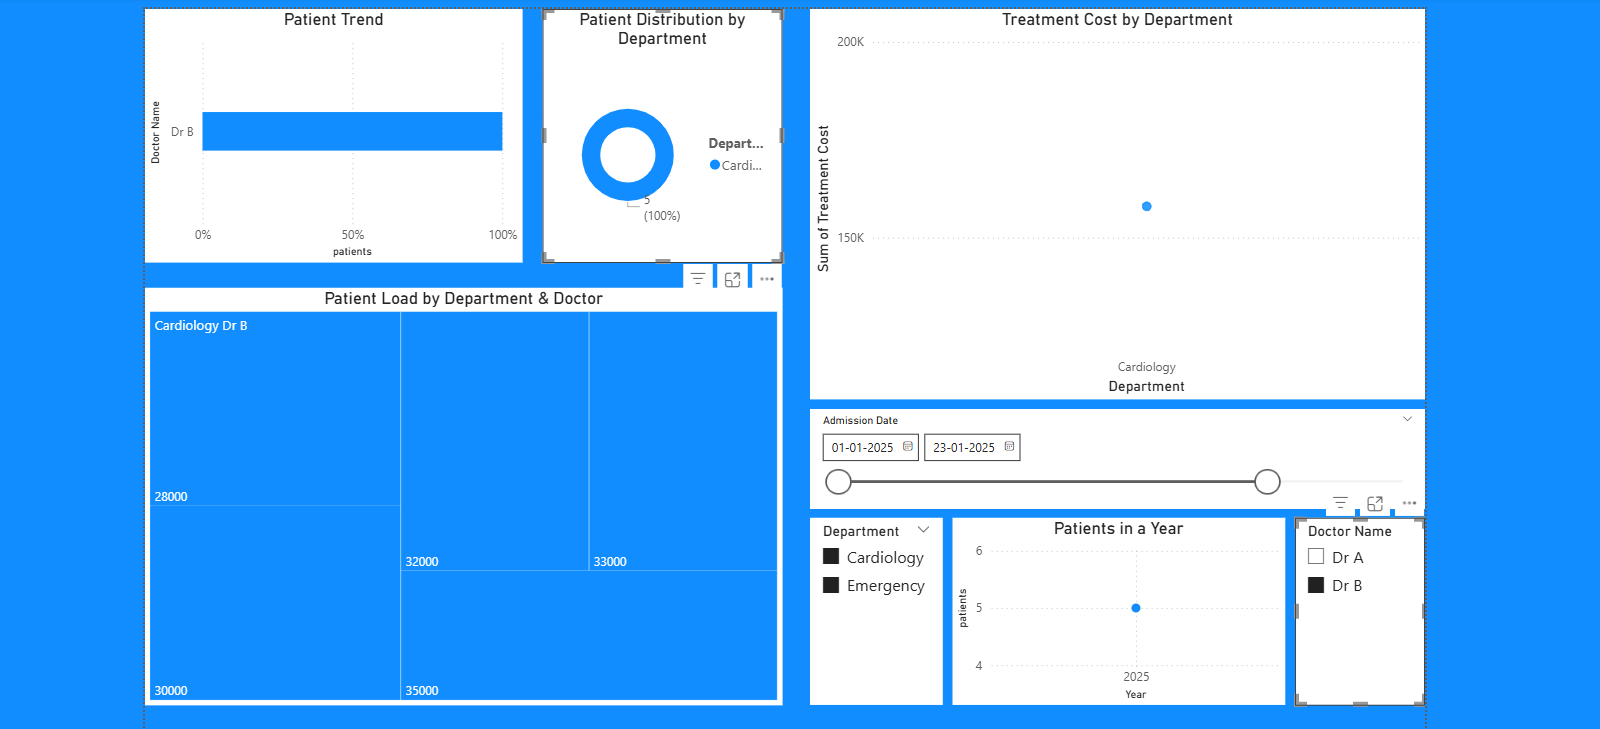

What the dashboard file says about the page in this screenshot:
{"tool":"powerbi","page":{"name":"Page 2","canvas":[1280,720],"ordinal":1},"visuals":[{"type":"hundredPercentStackedBarChart","title":"Patient Trend","fields":{"Category":["hospital_operations_data.Doctor Name"],"Y":["hospital_operations_data.patients"]},"box":[0,0,377.5,253.8],"z":0},{"type":"donutChart","title":"Patient Distribution by Department","fields":{"Category":["hospital_operations_data.Department"],"Y":["hospital_operations_data.patients"]},"box":[397.5,0,240,253.8],"z":1000},{"type":"scatterChart","title":"Treatment Cost by Department","fields":{"X":["hospital_operations_data.Department"],"Y":["hospital_operations_data.Treatment Cost"]},"box":[665,0,615,390],"z":2000},{"type":"slicer","fields":{"Values":["hospital_operations_data.Doctor Name"]},"box":[1150,508.8,130,187.5],"z":3000},{"type":"slicer","fields":{"Values":["hospital_operations_data.Admission Date"]},"box":[665,400,615,100],"z":4000},{"type":"treemap","title":"Patient Load by Department & Doctor","fields":{"Group":["hospital_operations_data.Department","hospital_operations_data.Doctor Name"],"Values":["hospital_operations_data.patients"],"Details":["hospital_operations_data.Treatment Cost"]},"box":[0,278.8,637.5,417.5],"z":5000},{"type":"slicer","fields":{"Values":["hospital_operations_data.Department"]},"box":[665,508.8,132.5,187.5],"z":6000},{"type":"lineChart","title":"Patients in a Year","fields":{"Category":["hospital_operations_data.Admission Date.Variation.Date Hierarchy.Year","hospital_operations_data.Admission Date.Variation.Date Hierarchy.Quarter","hospital_operations_data.Admission Date.Variation.Date Hierarchy.Month","hospital_operations_data.Admission Date.Variation.Date Hierarchy.Day"],"Y":["hospital_operations_data.patients"]},"box":[807.5,508.8,332.5,187.5],"z":7000}]}

Visuals, with their boxes in screenshot pixels (x1, y1, x2, y2):
"Patient Trend" hundredPercentStackedBarChart: bbox=[142, 4, 519, 258]
"Patient Distribution by Department" donutChart: bbox=[539, 4, 778, 258]
"Treatment Cost by Department" scatterChart: bbox=[806, 4, 1420, 394]
slicer - hospital_operations_data.Doctor Name: bbox=[1290, 512, 1420, 700]
slicer - hospital_operations_data.Admission Date: bbox=[806, 404, 1420, 504]
"Patient Load by Department & Doctor" treemap: bbox=[142, 283, 778, 700]
slicer - hospital_operations_data.Department: bbox=[806, 512, 938, 700]
"Patients in a Year" lineChart: bbox=[948, 512, 1280, 700]
